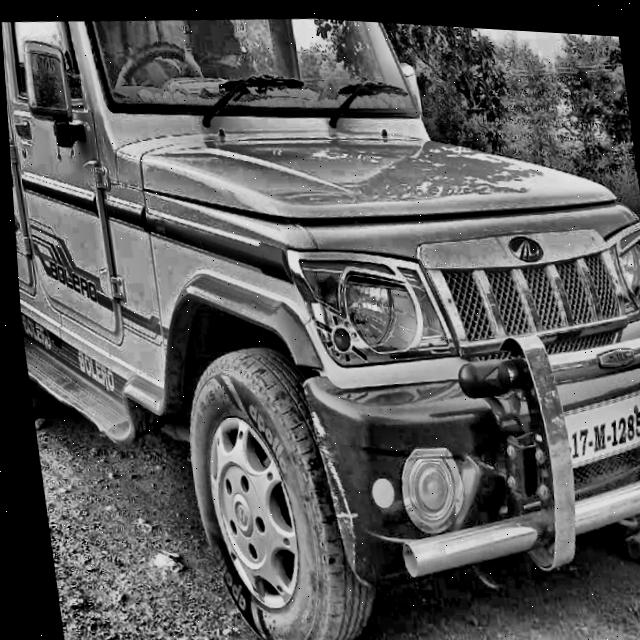light_vehicle: (0, 0, 640, 547)
